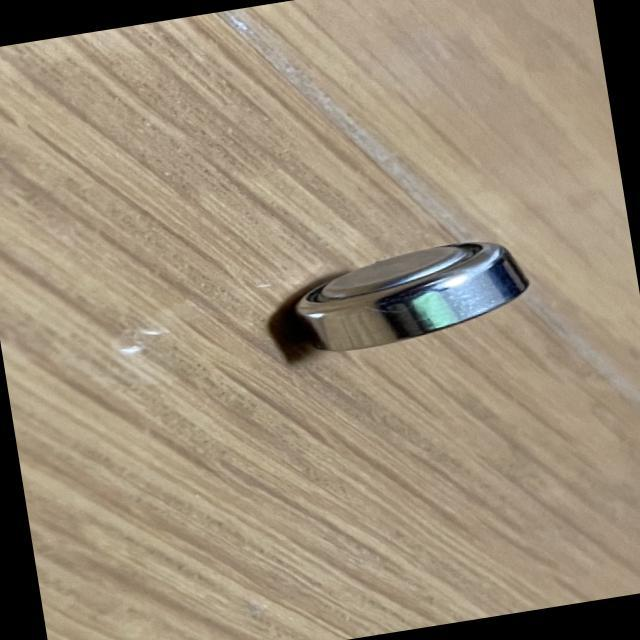COIN: (270, 235, 540, 362)
